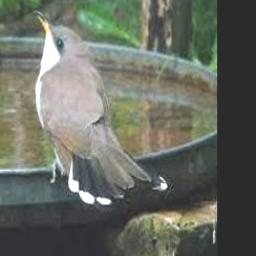Cuckoo: (31, 11, 167, 203)
